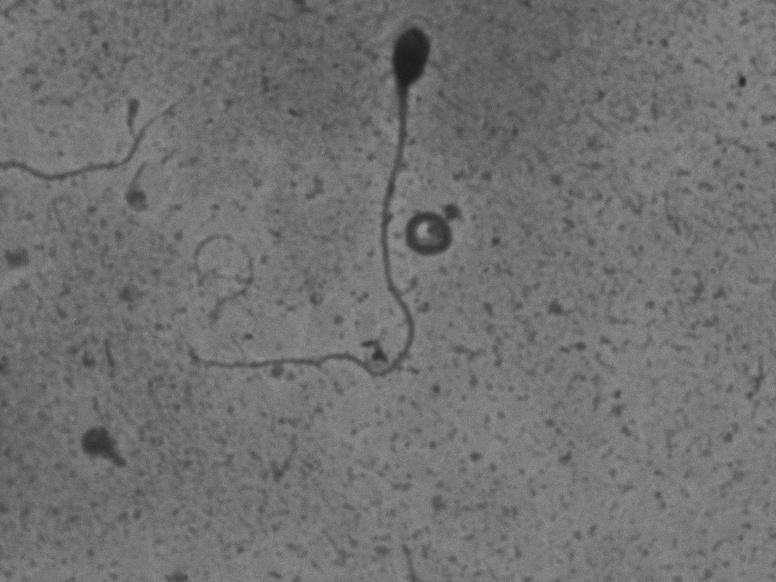Abnormal: (180, 17, 439, 391)
